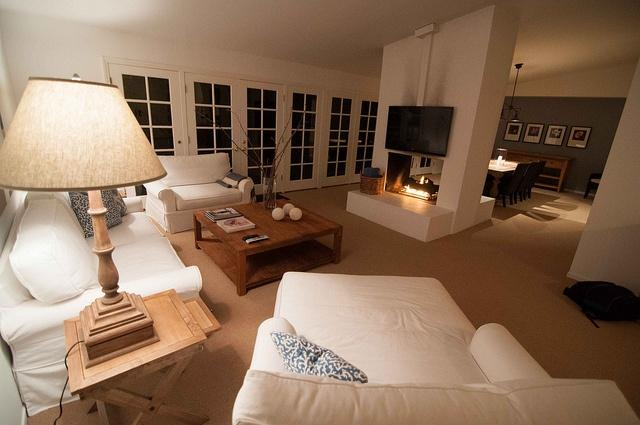AIO PC-Monitor-TV: (384, 104, 454, 156)
Meja: (191, 196, 344, 295)
